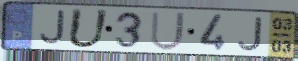3: (112, 10, 149, 51)
4: (197, 12, 231, 54)
J: (37, 9, 67, 46), (237, 17, 264, 52)
U: (66, 7, 112, 50), (149, 11, 188, 53)
